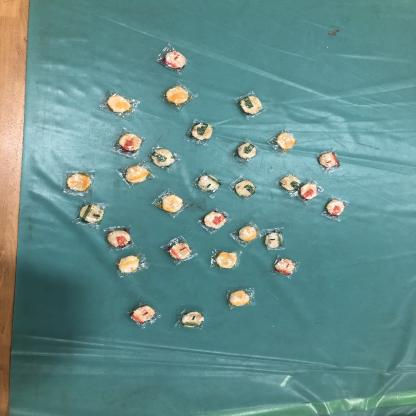green_setoshio: (147, 142, 181, 172), (182, 118, 221, 144), (191, 169, 225, 197), (173, 304, 207, 331), (76, 200, 108, 227), (230, 138, 262, 163), (262, 225, 290, 252), (238, 93, 265, 118), (230, 178, 260, 200), (276, 172, 301, 194)
red_setoshio: (156, 44, 190, 76), (162, 236, 197, 264), (103, 223, 134, 251), (113, 129, 144, 157), (200, 206, 232, 232), (129, 302, 162, 327), (270, 256, 300, 281), (323, 195, 349, 222), (317, 147, 340, 171), (300, 179, 322, 201)
yellow_setoshio: (58, 169, 96, 196), (161, 82, 196, 110), (155, 190, 191, 217), (103, 92, 141, 116), (119, 161, 155, 186), (112, 254, 150, 276), (209, 249, 242, 272), (226, 286, 255, 310), (272, 130, 300, 154), (234, 222, 260, 244)
